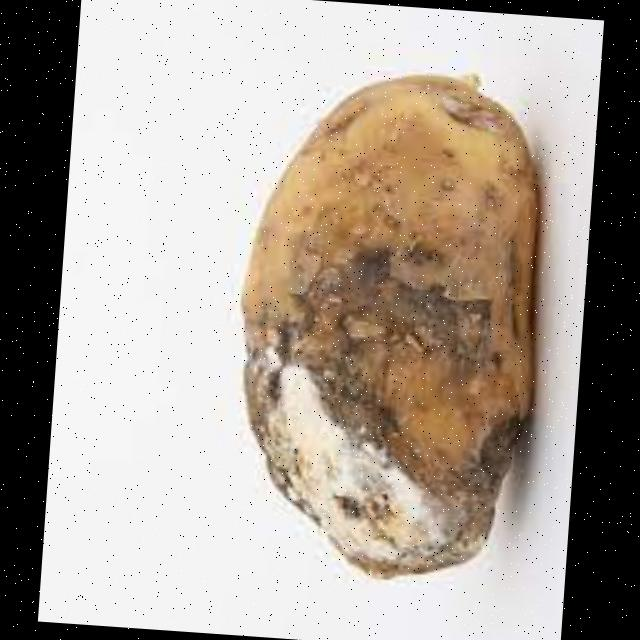Diseased-fungal potato: (219, 68, 549, 582)
